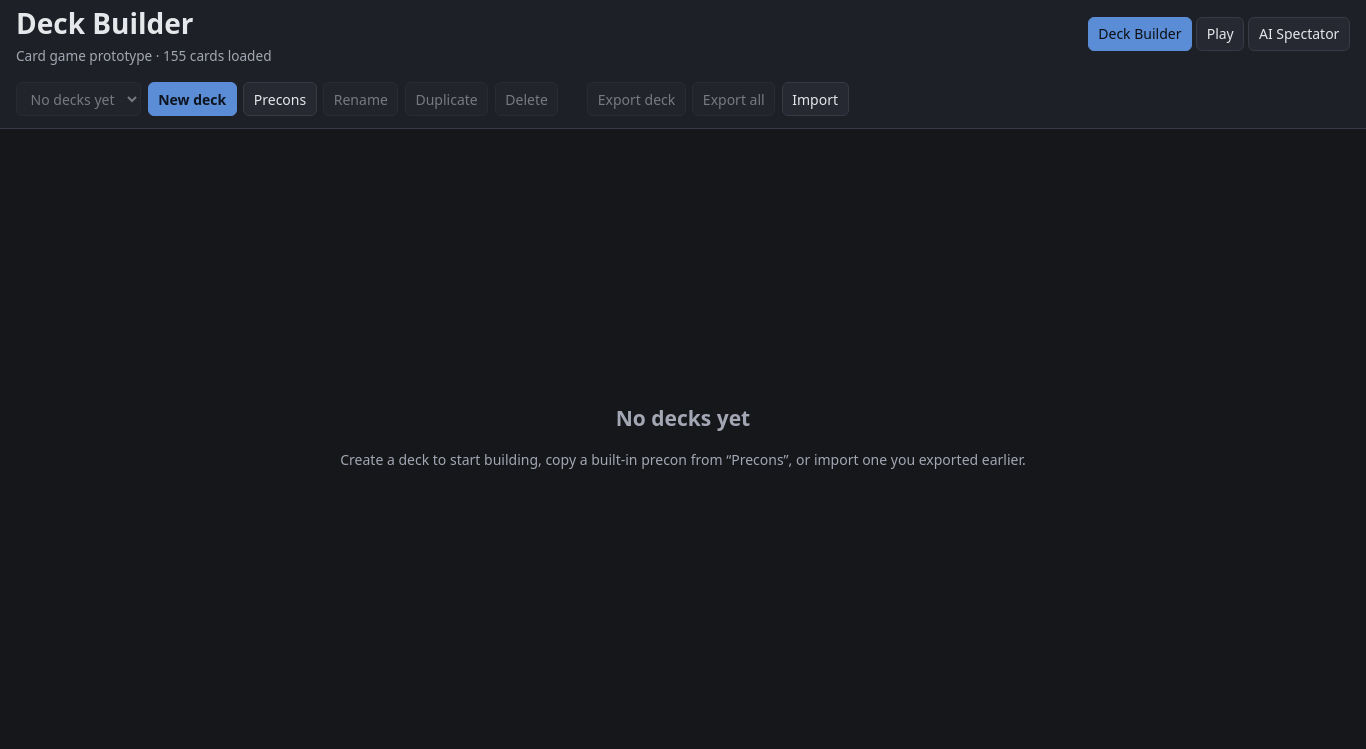
Test case: the provenance of a deck the server built › shows the seed, the generator version and the deck hash once it arrives
This screenshot has width=1366, height=749.
Click the button "Play" at x=1220, y=34, box [1196,17,1244,51]
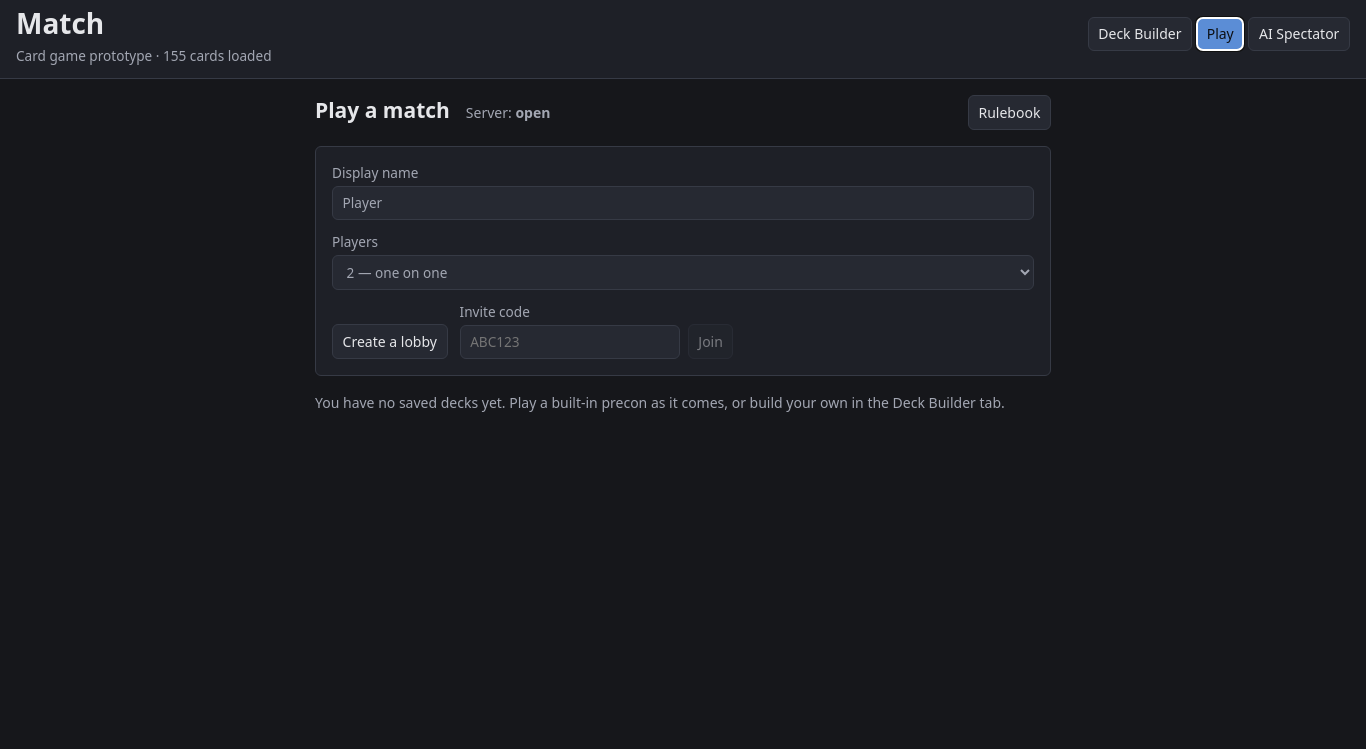
Click the button "Create a lobby" at x=390, y=342, box [332,324,448,359]
(page scrolled)
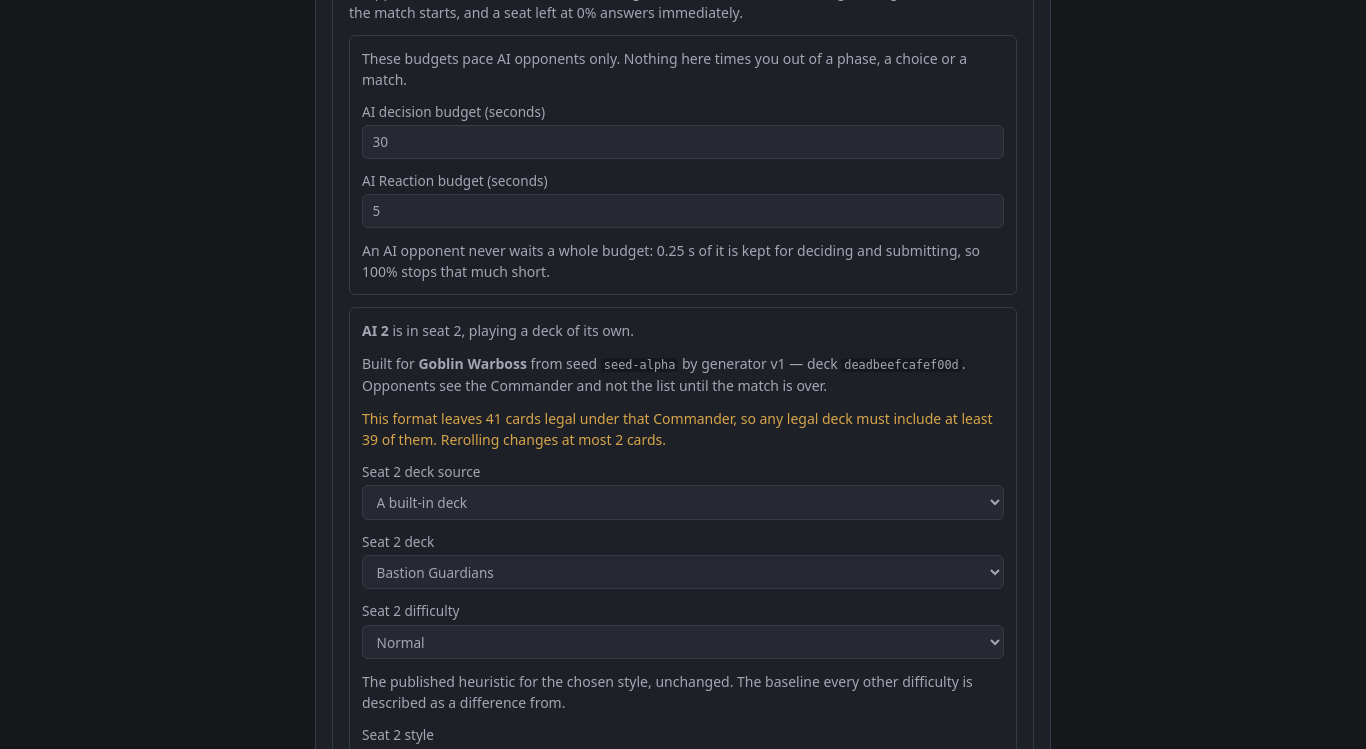
Expected: the text "seed-alpha" is shown, [601,358,678,372]
Expected: the text "deadbeefcafef00d" is shown, [841,358,962,372]
Expected: the text "generator v1" is shown, [362,353,1004,396]
